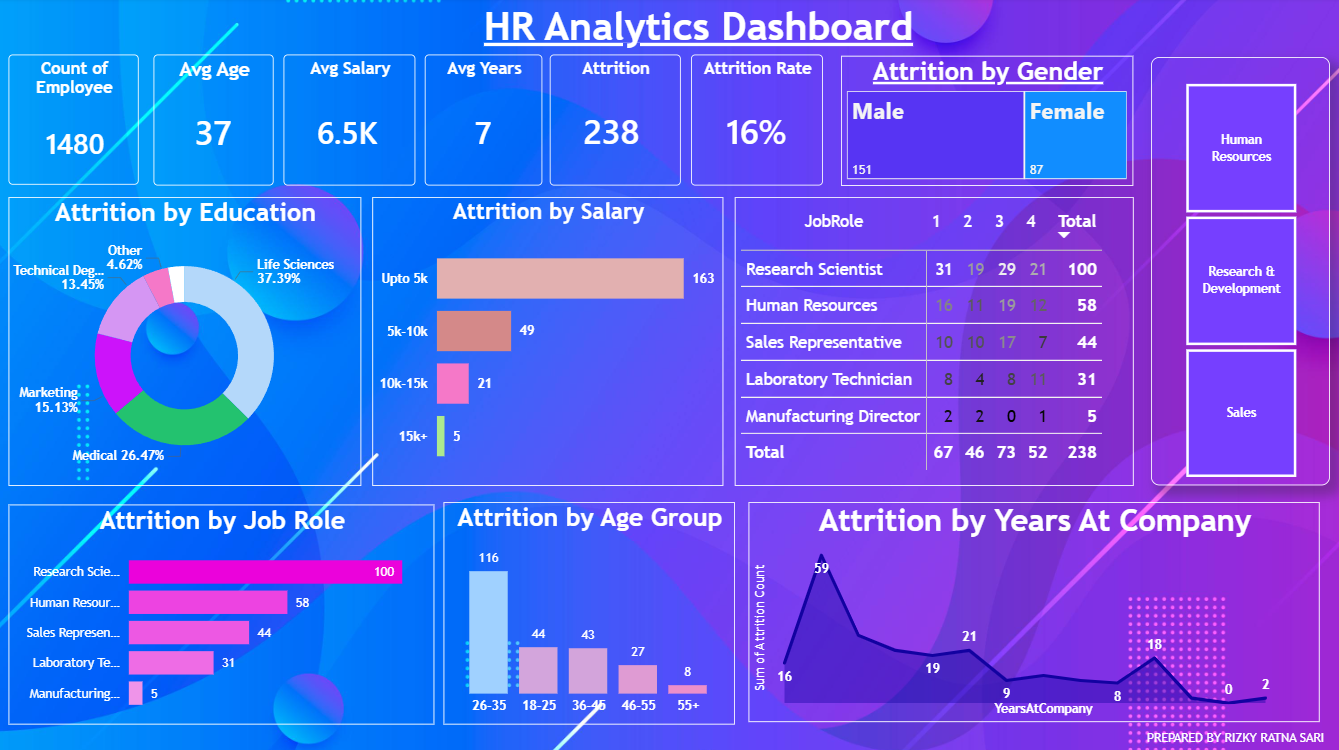

The dashboard page shown, as its layout file describes it:
{"tool":"powerbi","page":{"name":"Page 1","canvas":[1280,720],"ordinal":0},"visuals":[{"type":"cardVisual","title":"Count of Employee","fields":{"Data":["CountNonNull(HR_Data.EmpID)"]},"box":[11.9,54.8,123.8,123.8],"z":0},{"type":"cardVisual","title":"Attrition","fields":{"Data":["Sum(HR_Data.Attrition Count)"]},"box":[527.4,54.6,124.5,124.5],"z":1000},{"type":"textbox","box":[435.7,1.2,466.7,63.1],"z":2000},{"type":"cardVisual","title":"Attrition Rate","fields":{"Data":["Education.Attrition_Rate"]},"box":[661.9,54.6,125.8,124.5],"z":3000},{"type":"cardVisual","title":"Avg Salary","fields":{"Data":["Avg(HR_Data.MonthlyIncome)"]},"box":[273.3,54.6,125.8,124.5],"z":4000},{"type":"cardVisual","title":"Avg Years","fields":{"Data":["Avg(HR_Data.YearsAtCompany)"]},"box":[407.8,54.6,112.1,124.5],"z":5000},{"type":"cardVisual","title":"Avg Age","fields":{"Data":["Avg(HR_Data.Age)"]},"box":[150,54.6,114.6,124.5],"z":6000},{"type":"treemap","title":"Attrition by Gender","fields":{"Group":["HR_Data.Gender"],"Values":["Sum(HR_Data.Attrition Count)"]},"box":[804.8,56,278.6,123.8],"z":7000},{"type":"slicer","fields":{"Values":["Departments.Department"]},"box":[1100,57.1,170.2,408.3],"z":8000},{"type":"donutChart","title":"Attrition by Education","fields":{"Category":["Education.Education"],"Y":["Sum(HR_Data.Attrition Count)"]},"box":[11.9,190.5,335.7,275],"z":9000},{"type":"clusteredColumnChart","title":"Attrition by Age Group","fields":{"Y":["Sum(HR_Data.Attrition Count)"],"Category":["HR_Data.AgeGroup"]},"box":[426.2,481,277.4,211.9],"z":10000},{"type":"clusteredBarChart","title":"Attrition by Salary","fields":{"Y":["Sum(HR_Data.Attrition Count)"],"Category":["HR_Data.SalarySlab"]},"box":[358.4,190.5,334.5,275],"z":11000},{"type":"areaChart","title":"Attrition by Years At Company","fields":{"Y":["Sum(HR_Data.Attrition Count)"],"Category":["HR_Data.YearsAtCompany"]},"box":[716.7,481,544.1,209.5],"z":12000},{"type":"clusteredBarChart","title":"Attrition by Job Role","fields":{"Y":["Sum(HR_Data.Attrition Count)"],"Category":["Jobs.JobRole"]},"box":[11.9,483.3,406,209.5],"z":13000},{"type":"pivotTable","fields":{"Rows":["Jobs.JobRole"],"Columns":["HR_Data.JobSatisfaction"],"Values":["Sum(HR_Data.Attrition Count)"]},"box":[703.6,190.5,379.8,275],"z":14000},{"type":"textbox","box":[1083.3,691.7,194,28.6],"z":15000}]}

Visuals, with their boxes in screenshot pixels (x1, y1, x2, y2), scaled from the page's 1280x720 canvas onto the 1339x750 screenshot:
"Count of Employee" cardVisual: [12, 57, 142, 186]
"Attrition" cardVisual: [552, 57, 682, 187]
textbox: [456, 1, 944, 67]
"Attrition Rate" cardVisual: [692, 57, 824, 187]
"Avg Salary" cardVisual: [286, 57, 417, 187]
"Avg Years" cardVisual: [427, 57, 544, 187]
"Avg Age" cardVisual: [157, 57, 277, 187]
"Attrition by Gender" treemap: [842, 58, 1133, 187]
slicer - Departments.Department: [1151, 59, 1329, 485]
"Attrition by Education" donutChart: [12, 198, 364, 485]
"Attrition by Age Group" clusteredColumnChart: [446, 501, 736, 722]
"Attrition by Salary" clusteredBarChart: [375, 198, 725, 485]
"Attrition by Years At Company" areaChart: [750, 501, 1319, 719]
"Attrition by Job Role" clusteredBarChart: [12, 503, 437, 722]
pivotTable - Jobs.JobRole x HR_Data.JobSatisfaction: [736, 198, 1133, 485]
textbox: [1133, 721, 1336, 749]
